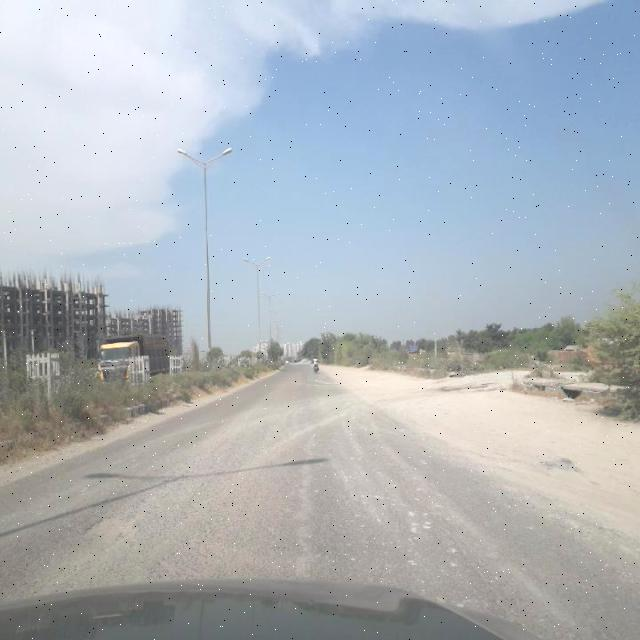D00: (382, 451, 535, 629)
D40: (76, 482, 164, 548)
